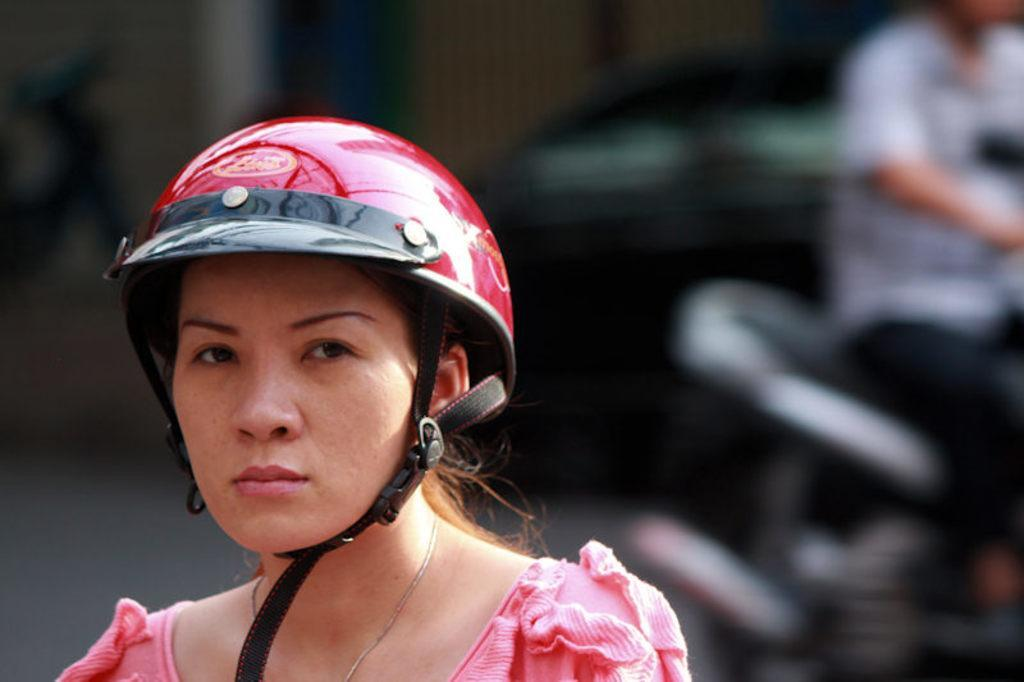helmet: (101, 113, 519, 563)
